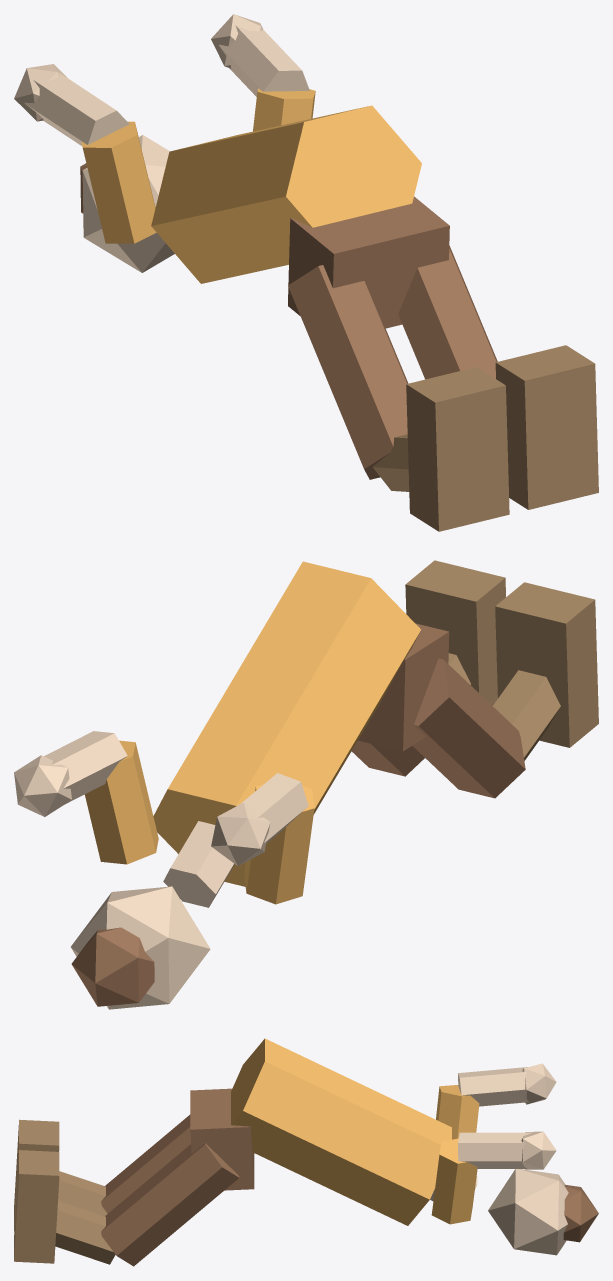
Rendered from pose_dodge_roll_19.glb.
3 views of the same model, one above another, from view 1: azimuth 30°, elevation 25°; view 2: azimuth 150°, elevation 25°; view 3: azimuth 270°, elevation 25° (orthographic). The views are drawn at different scales.
Visible parts, largest first — view 1: pose; view 2: pose; view 3: pose.
Part boxes in pixels (x1=…): pose: x1=14, y1=14, x2=598, y2=531; pose: x1=14, y1=560, x2=598, y2=1009; pose: x1=14, y1=1038, x2=598, y2=1266.
Size of the model in its own units: 0.4876 by 0.5457 by 1.45.
